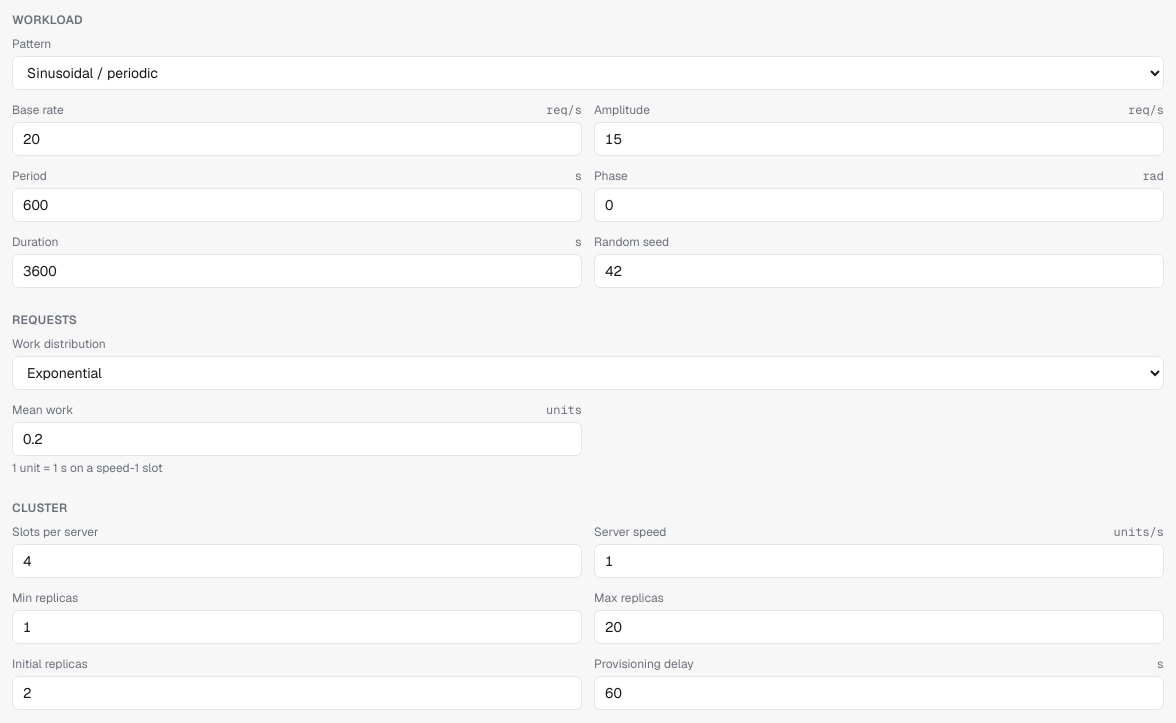
Test: ScenarioForm › switches workload fields with the pattern
The image size is (1176, 723).
Expected: the number field labelled "Amplitude req/s" is shown, 594,122 -> 1164,156
Select "Sudden spike" in the dropdown labelled "Pattern". click: (588, 73)
box: 12,56 -> 1164,90
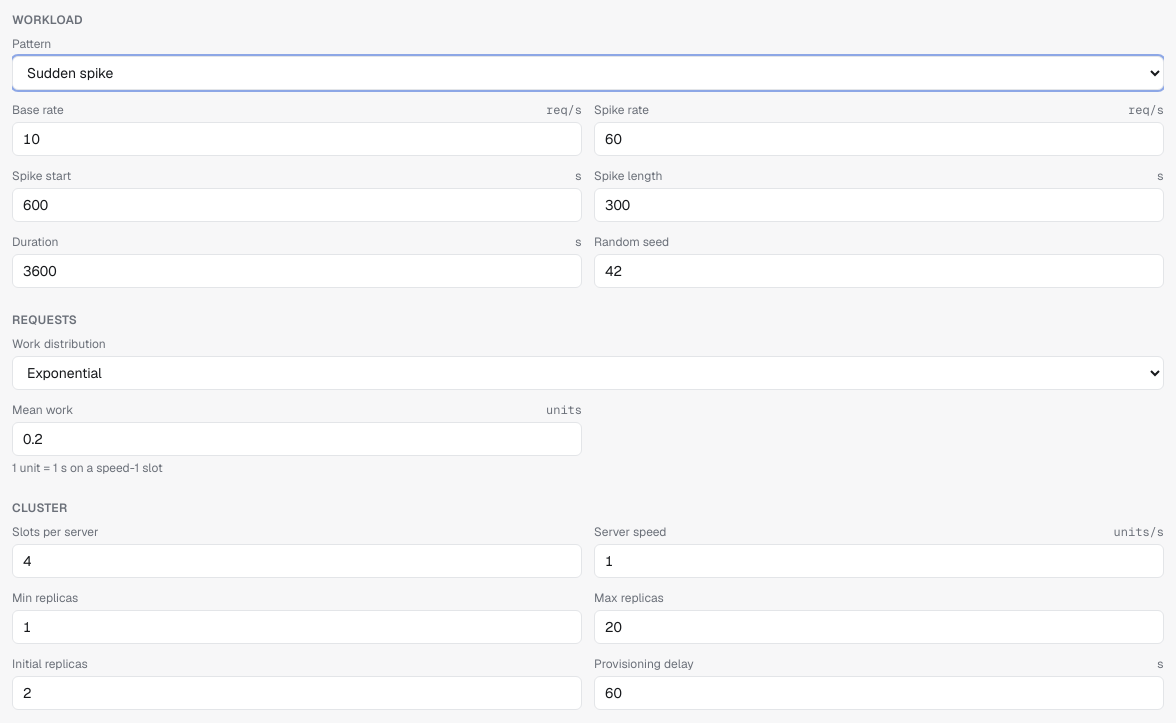
Result: the text labelled "Amplitude" is gone
Result: the number field labelled "Spike rate req/s" holds "60" at 594,122 -> 1164,156
